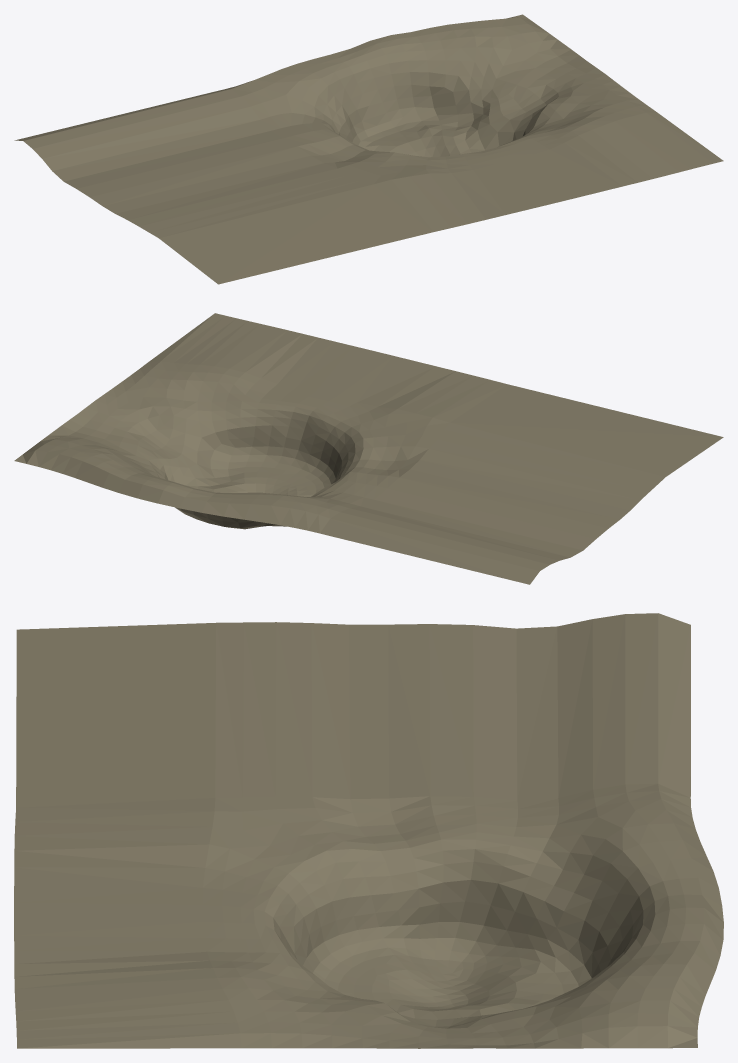
The model's file is crater.fbx.
3 renders of one model, top to bottom at view 1: azimuth 30°, elevation 25°; view 2: azimuth 150°, elevation 25°; view 3: azimuth 270°, elevation 25°, orthographic. The views are drawn at different scales.
Parts seen in each view (by area): view 1: crater; view 2: crater; view 3: crater.
Part boxes in pixels (bbox=[...]): crater: bbox=[14, 14, 723, 284]; crater: bbox=[14, 313, 723, 584]; crater: bbox=[14, 613, 723, 1048].
Bounding box in the file's own units: 11.69 × 1.55 × 8.24.
